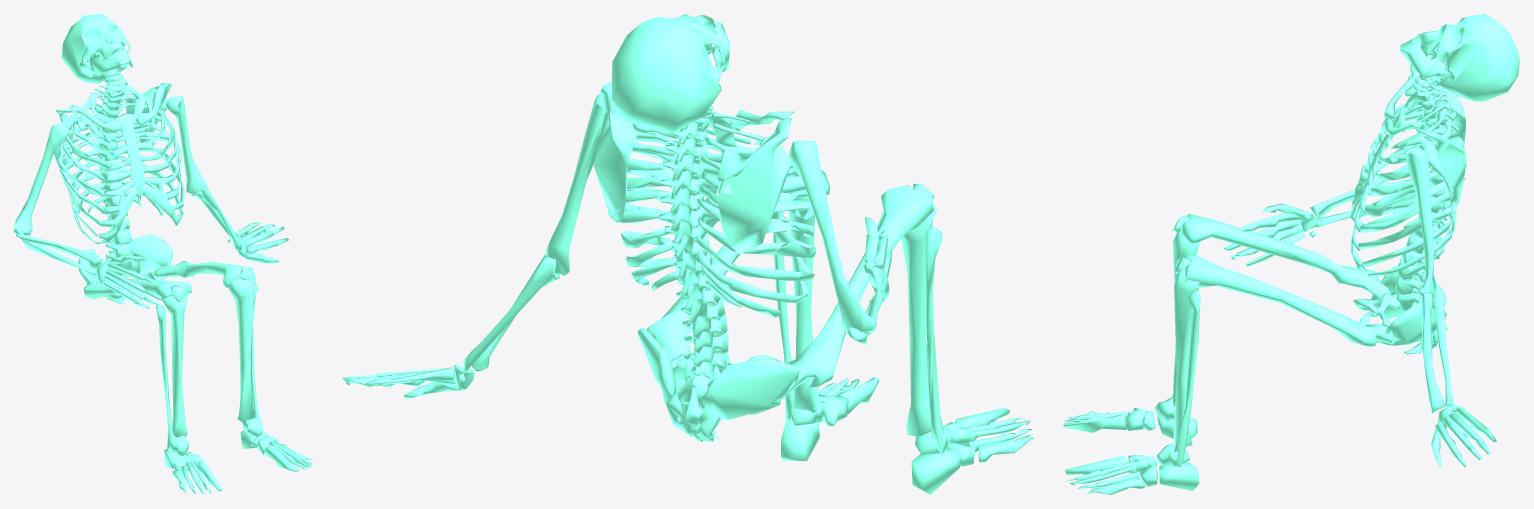
The model's file is skelletonnew.fbx.
3 views of the same model, side by side, from view 1: azimuth 30°, elevation 25°; view 2: azimuth 150°, elevation 25°; view 3: azimuth 270°, elevation 25° (orthographic). The views are drawn at different scales.
Visible parts, largest first — view 1: sub01, sub02; view 2: sub01, sub02; view 3: sub01, sub02.
Boxes of the visible parts, x1,y1,x2,y2 form: sub01: (14,14,313,494); sub02: (56,90,184,299); sub01: (342,14,1034,494); sub02: (607,116,816,419); sub01: (1063,14,1519,494); sub02: (1353,90,1456,345).
Bounding box in the file's own units: 90.04 × 103 × 96.57.
